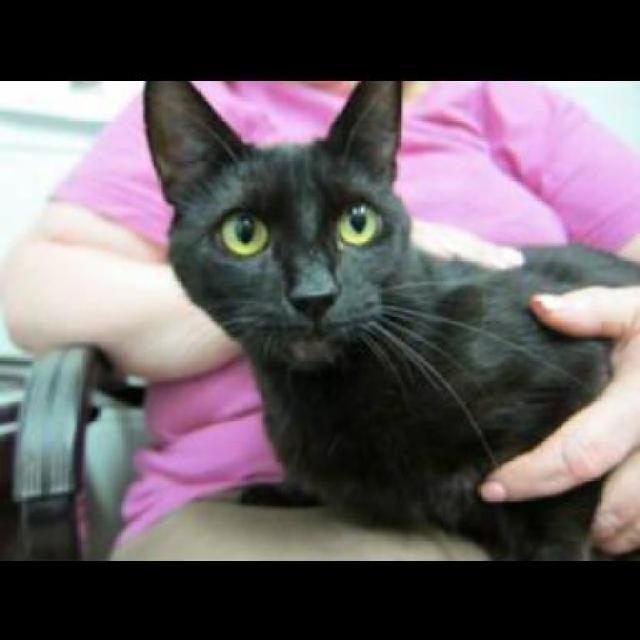unauthorized: (140, 77, 638, 560)
